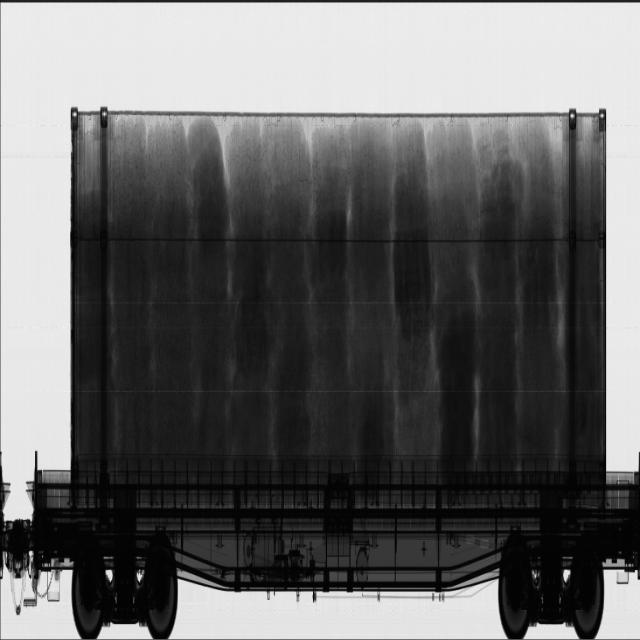clothes: (436, 294, 480, 464)
textiles: (76, 122, 603, 479)
